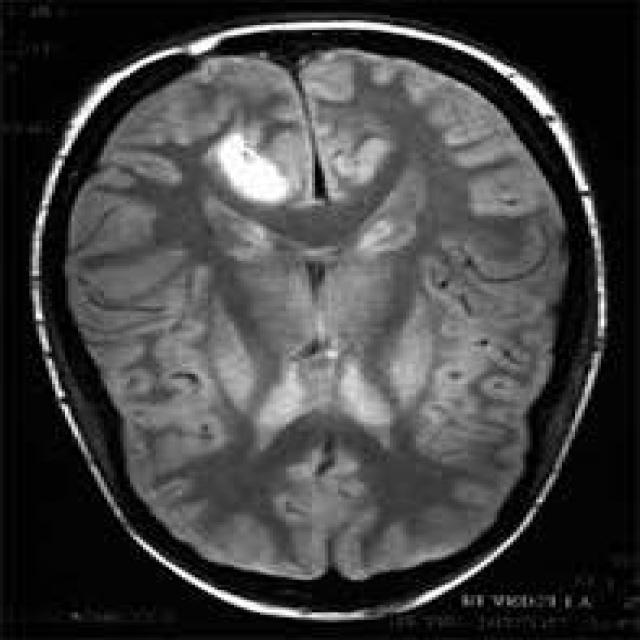Tumor-Cell: (218, 130, 313, 213)
